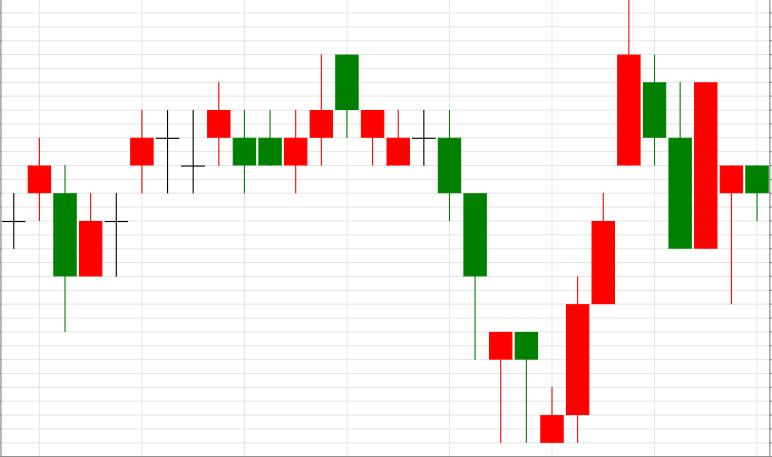hammer_rise: (335, 54, 538, 442), (334, 54, 512, 443)
three_white_soldiers_rise: (335, 0, 640, 443)
